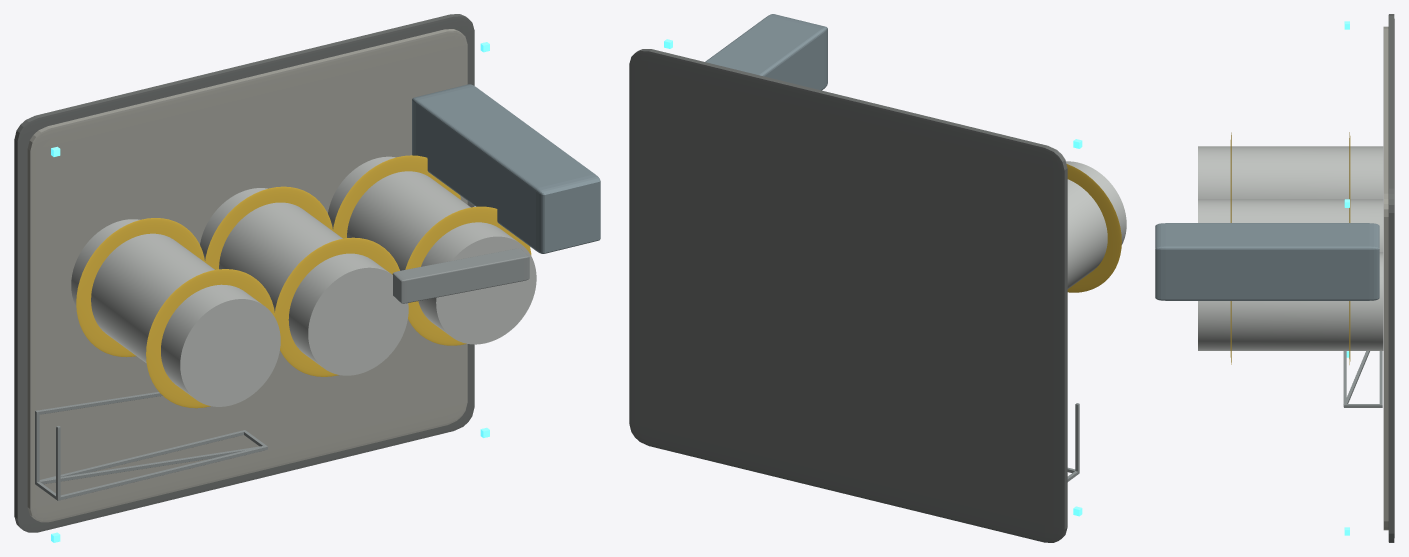
File: b-10-resource-silo-lod2.glb
3 views of the same model, side by side, from view 1: azimuth 30°, elevation 25°; view 2: azimuth 150°, elevation 25°; view 3: azimuth 270°, elevation 25° (orthographic). The views are drawn at different scales.
Parts seen in each view (by area): view 1: foundation_inner_pad, primary_silo_0_vessel, main_bucket_elevator, primary_silo_1_vessel, foundation, primary_silo_2_vessel, top_conveyor_1, primary_silo_0_ring_high, primary_silo_0_ring_low, primary_silo_1_ring_high, primary_silo_2_ring_high, primary_silo_1_ring_low (+4 smaller); view 2: foundation, main_bucket_elevator, primary_silo_0_vessel, primary_silo_0_ring_high; view 3: main_bucket_elevator, primary_silo_0_vessel, primary_silo_2_vessel, primary_silo_1_vessel, foundation, foundation_inner_pad.
Part boxes in pixels (box(x1,y1,x2,y2)): foundation_inner_pad: box(27, 29, 467, 522); primary_silo_0_vessel: box(71, 219, 280, 406); main_bucket_elevator: box(412, 84, 600, 253); primary_silo_1_vessel: box(200, 188, 408, 375); foundation: box(14, 14, 474, 532); primary_silo_2_vessel: box(328, 156, 536, 344); top_conveyor_1: box(392, 248, 529, 303); primary_silo_0_ring_high: box(146, 269, 274, 408); primary_silo_0_ring_low: box(76, 218, 204, 357); primary_silo_1_ring_high: box(275, 237, 399, 376); primary_silo_2_ring_high: box(405, 206, 531, 345); primary_silo_1_ring_low: box(205, 186, 332, 269); foundation: box(629, 49, 1067, 542); main_bucket_elevator: box(705, 14, 827, 90); primary_silo_0_vessel: box(1066, 161, 1126, 288); primary_silo_0_ring_high: box(1066, 164, 1121, 292); main_bucket_elevator: box(1155, 223, 1379, 300); primary_silo_0_vessel: box(1198, 146, 1383, 199); primary_silo_2_vessel: box(1198, 252, 1383, 350); primary_silo_1_vessel: box(1198, 199, 1383, 252); foundation: box(1388, 14, 1394, 542); foundation_inner_pad: box(1383, 26, 1388, 530).
Size of what is drawn, in the model's own units: 15 by 13 by 8.
